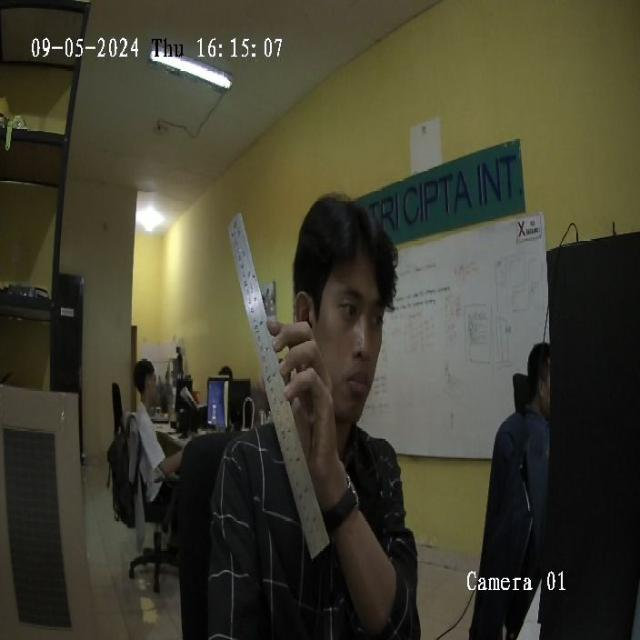Ruler: (229, 214, 329, 558)
